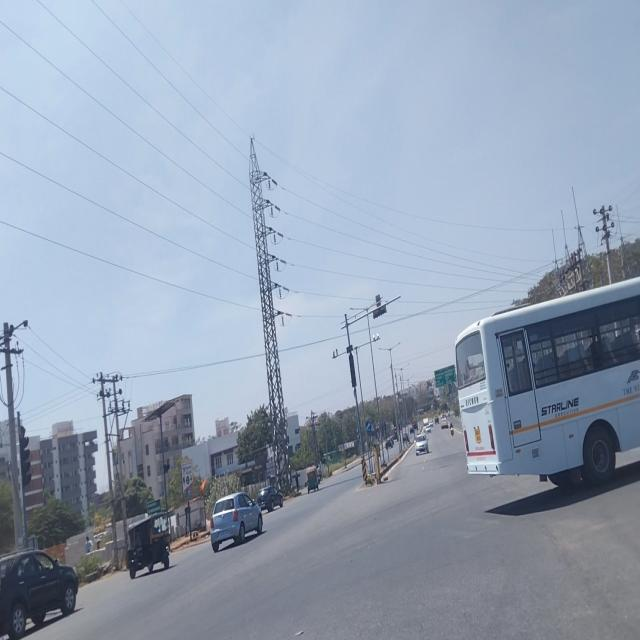bien_cam: (364, 421, 372, 434)
